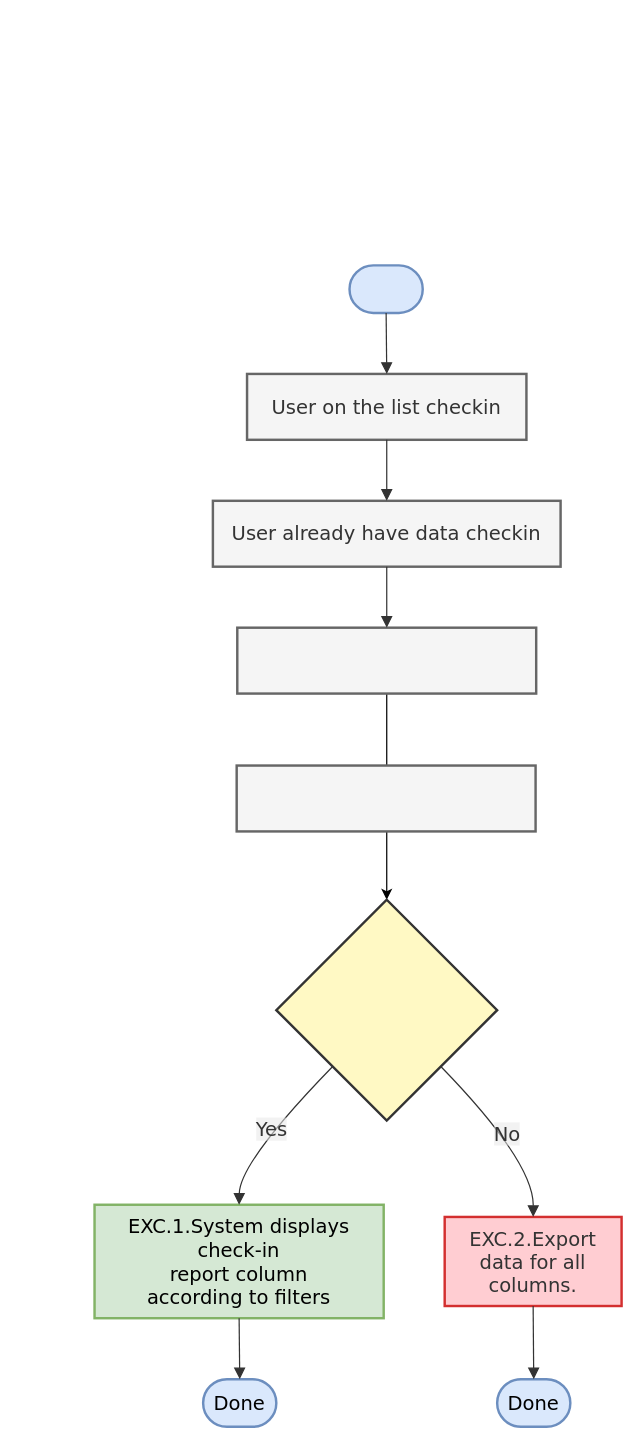
This 643x1448 diagram has some shape labels left out. Each missing label, with the box of its shape:
Click button export column: (235, 626, 537, 694)
Start: (348, 264, 423, 314)
validate whether the user has selected a filter column: (235, 764, 536, 832)
